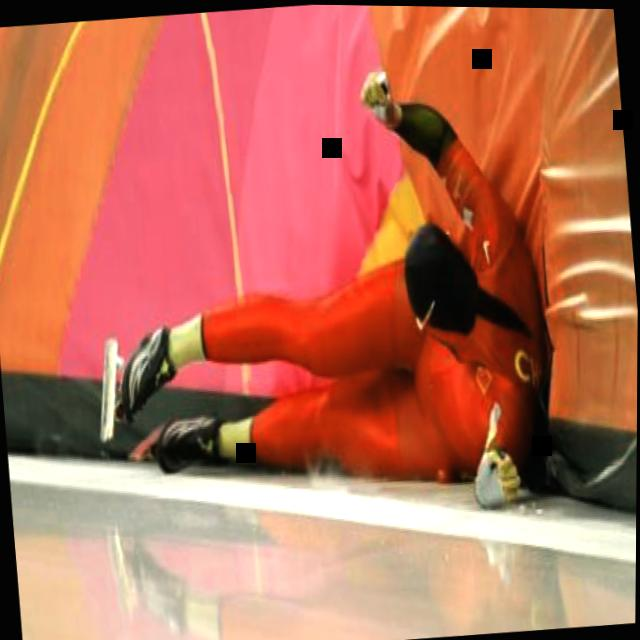Fall-Detected: (64, 5, 592, 536)
